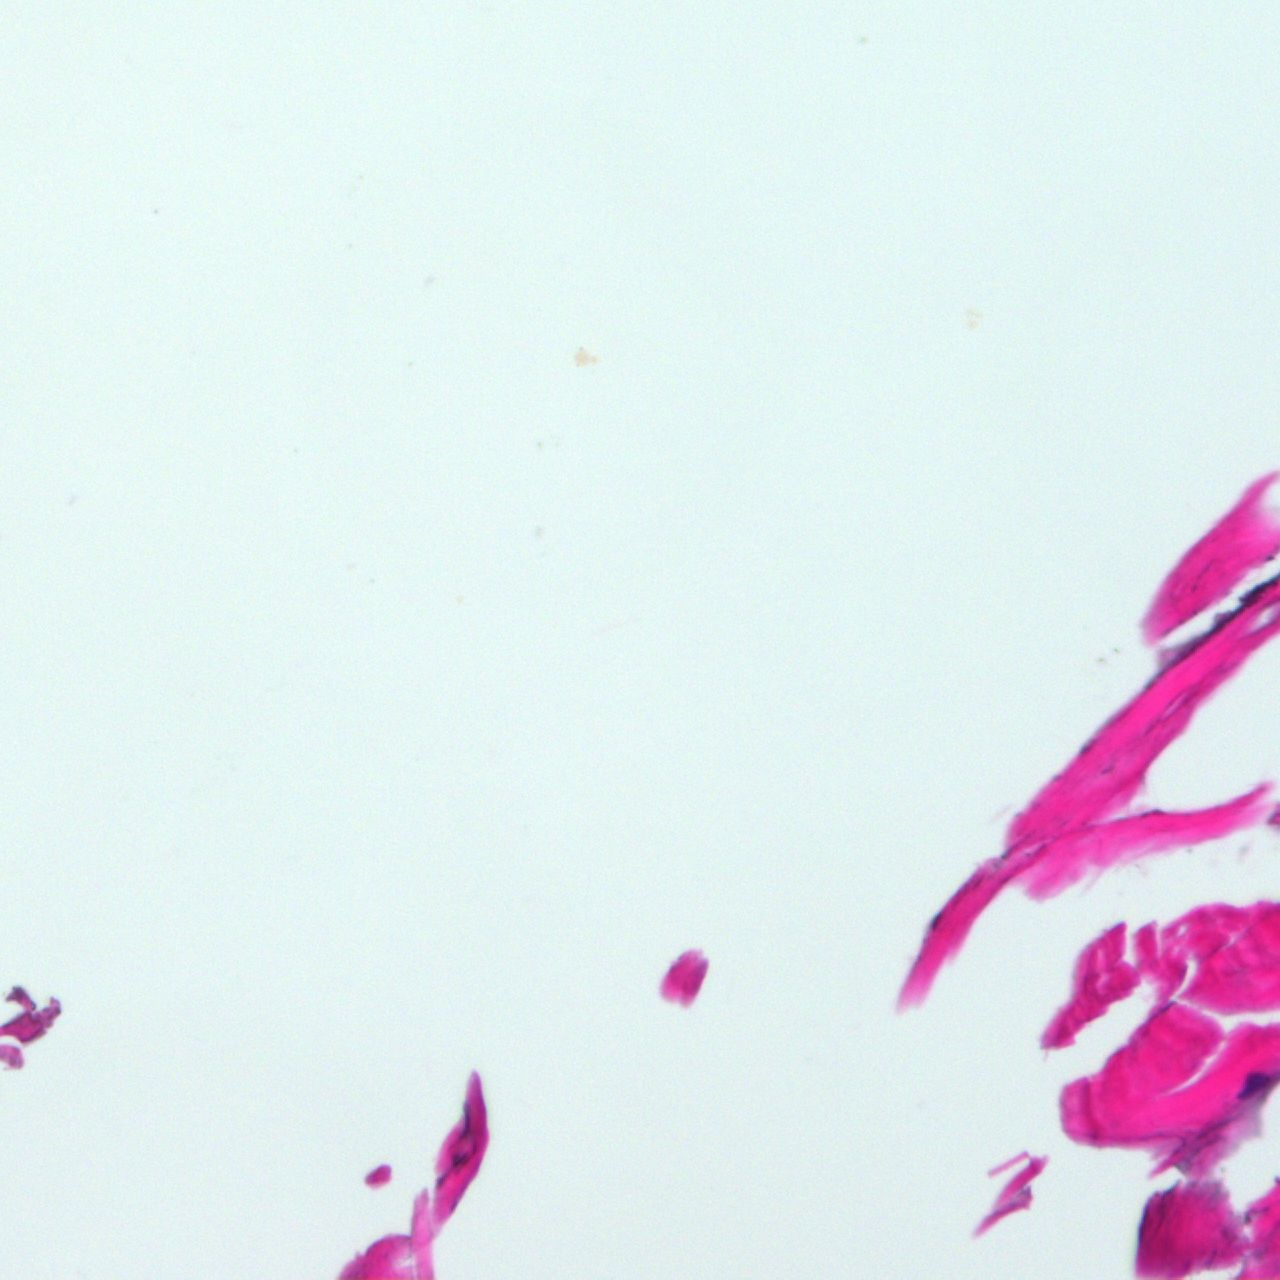dust: (573, 348, 599, 366), (965, 309, 983, 327)
nucleus-HE: (1231, 1065, 1269, 1101), (452, 1153, 462, 1165)
